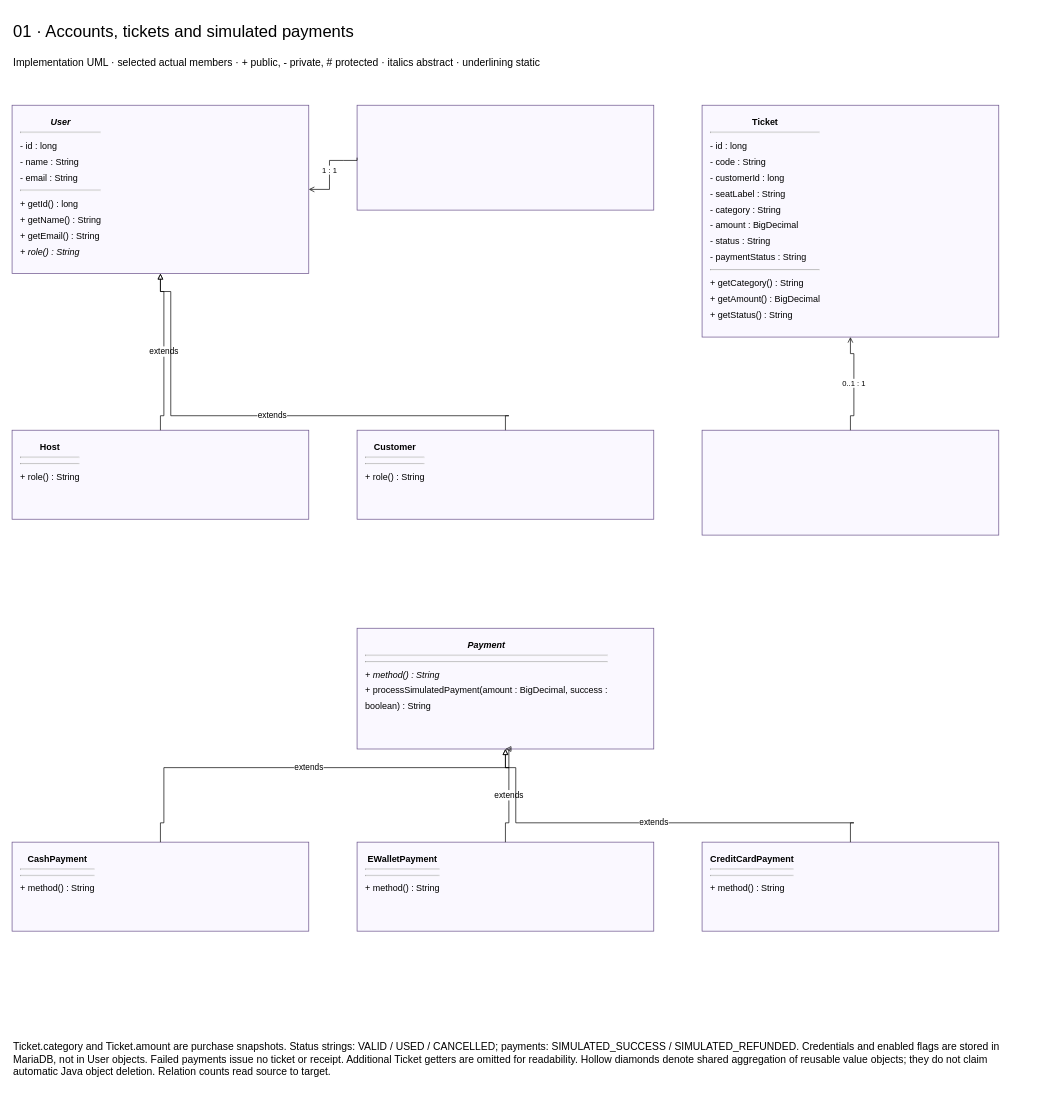
Image size: 1059x1105. Some labels were removed from this diagram. Each missing label, with the box of its shape:
Receipt - ticket : Ticket + getTicket() : Ticket + asText() : String: (701, 430, 999, 535)
Session - user : User + getUser() : User + isHost() : boolean: (356, 105, 654, 210)
